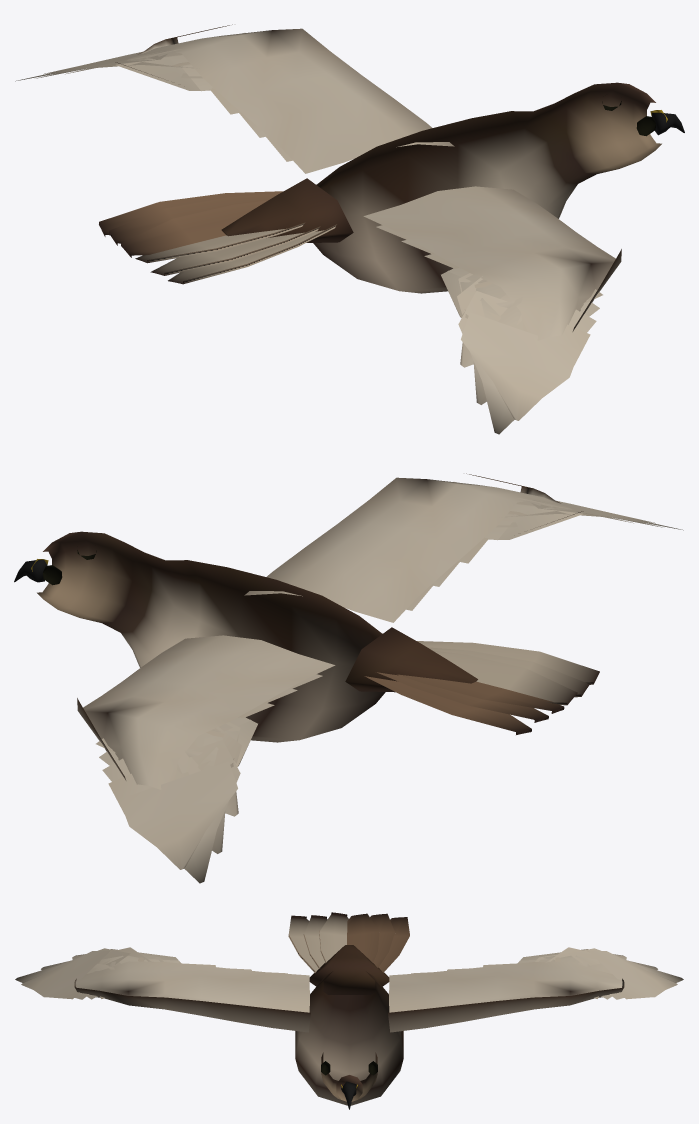
The model's file is SM_Bird_buzzard_flap3_LOD1.glb.
3 views of the same model, one above another, from view 1: azimuth 30°, elevation 25°; view 2: azimuth 150°, elevation 25°; view 3: azimuth 270°, elevation 25° (orthographic). The views are drawn at different scales.
Parts seen in each view (by area): view 1: SM_Bird_buzzard_flap3_LOD1; view 2: SM_Bird_buzzard_flap3_LOD1; view 3: SM_Bird_buzzard_flap3_LOD1.
Boxes of the visible parts, x1,y1,x2,y2 form: SM_Bird_buzzard_flap3_LOD1: (15,24,684,434); SM_Bird_buzzard_flap3_LOD1: (14,473,683,883); SM_Bird_buzzard_flap3_LOD1: (15,912,683,1109).
Size of the model in its own units: 0.5874 by 0.1647 by 0.8936.
